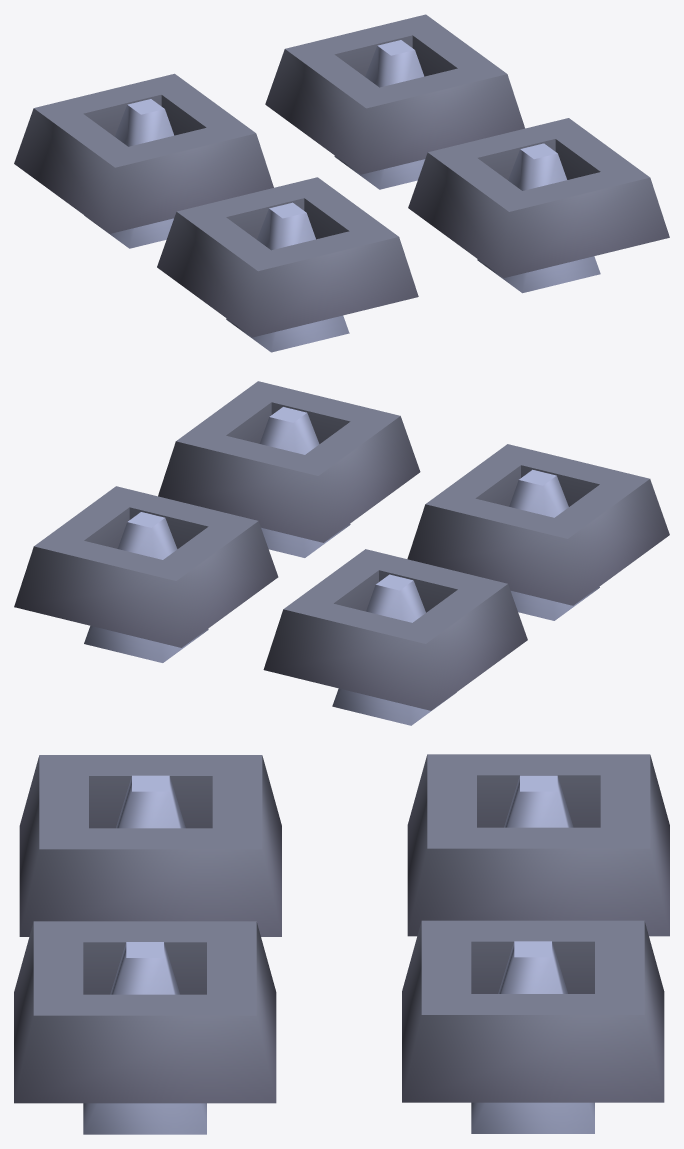
Rendered from trap_spike.glb.
The picture shows the model from 3 angles, top to bottom: view 1: azimuth 30°, elevation 25°; view 2: azimuth 150°, elevation 25°; view 3: azimuth 270°, elevation 25°; orthographic projection. The views are drawn at different scales.
Visible parts, largest first — view 1: trap-spikes, spikes; view 2: trap-spikes, spikes; view 3: trap-spikes, spikes.
Part boxes in pixels (x1,y1,x2,y2): trap-spikes: (14, 14, 669, 337); spikes: (84, 40, 600, 352); trap-spikes: (14, 381, 669, 710); spikes: (84, 407, 599, 725); trap-spikes: (14, 754, 669, 1103); spikes: (83, 775, 594, 1134).
Bounding box in the file's own units: 0.6392 × 0.17 × 0.6375.
1 material, 1 textured.
